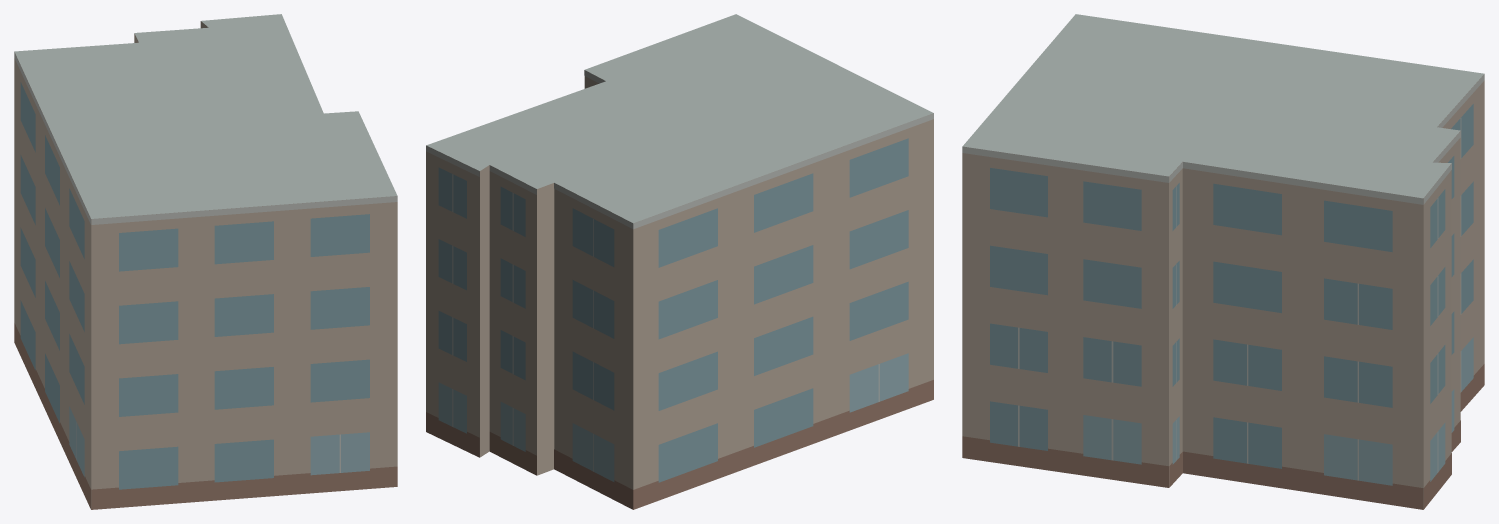
Rendered from survey-upis-32686637.glb.
3 views of the same model, side by side, from view 1: azimuth 30°, elevation 25°; view 2: azimuth 150°, elevation 25°; view 3: azimuth 270°, elevation 25° (orthographic). The views are drawn at different scales.
Visible parts, largest first — view 1: survey-upis-32686637.tmp; view 2: survey-upis-32686637.tmp; view 3: survey-upis-32686637.tmp.
Part boxes in pixels (x1,y1,x2,y2): survey-upis-32686637.tmp: (14, 14, 397, 509); survey-upis-32686637.tmp: (426, 14, 933, 509); survey-upis-32686637.tmp: (962, 14, 1484, 509).
Bounding box in the file's own units: 14.87 × 11.7 × 17.79.
